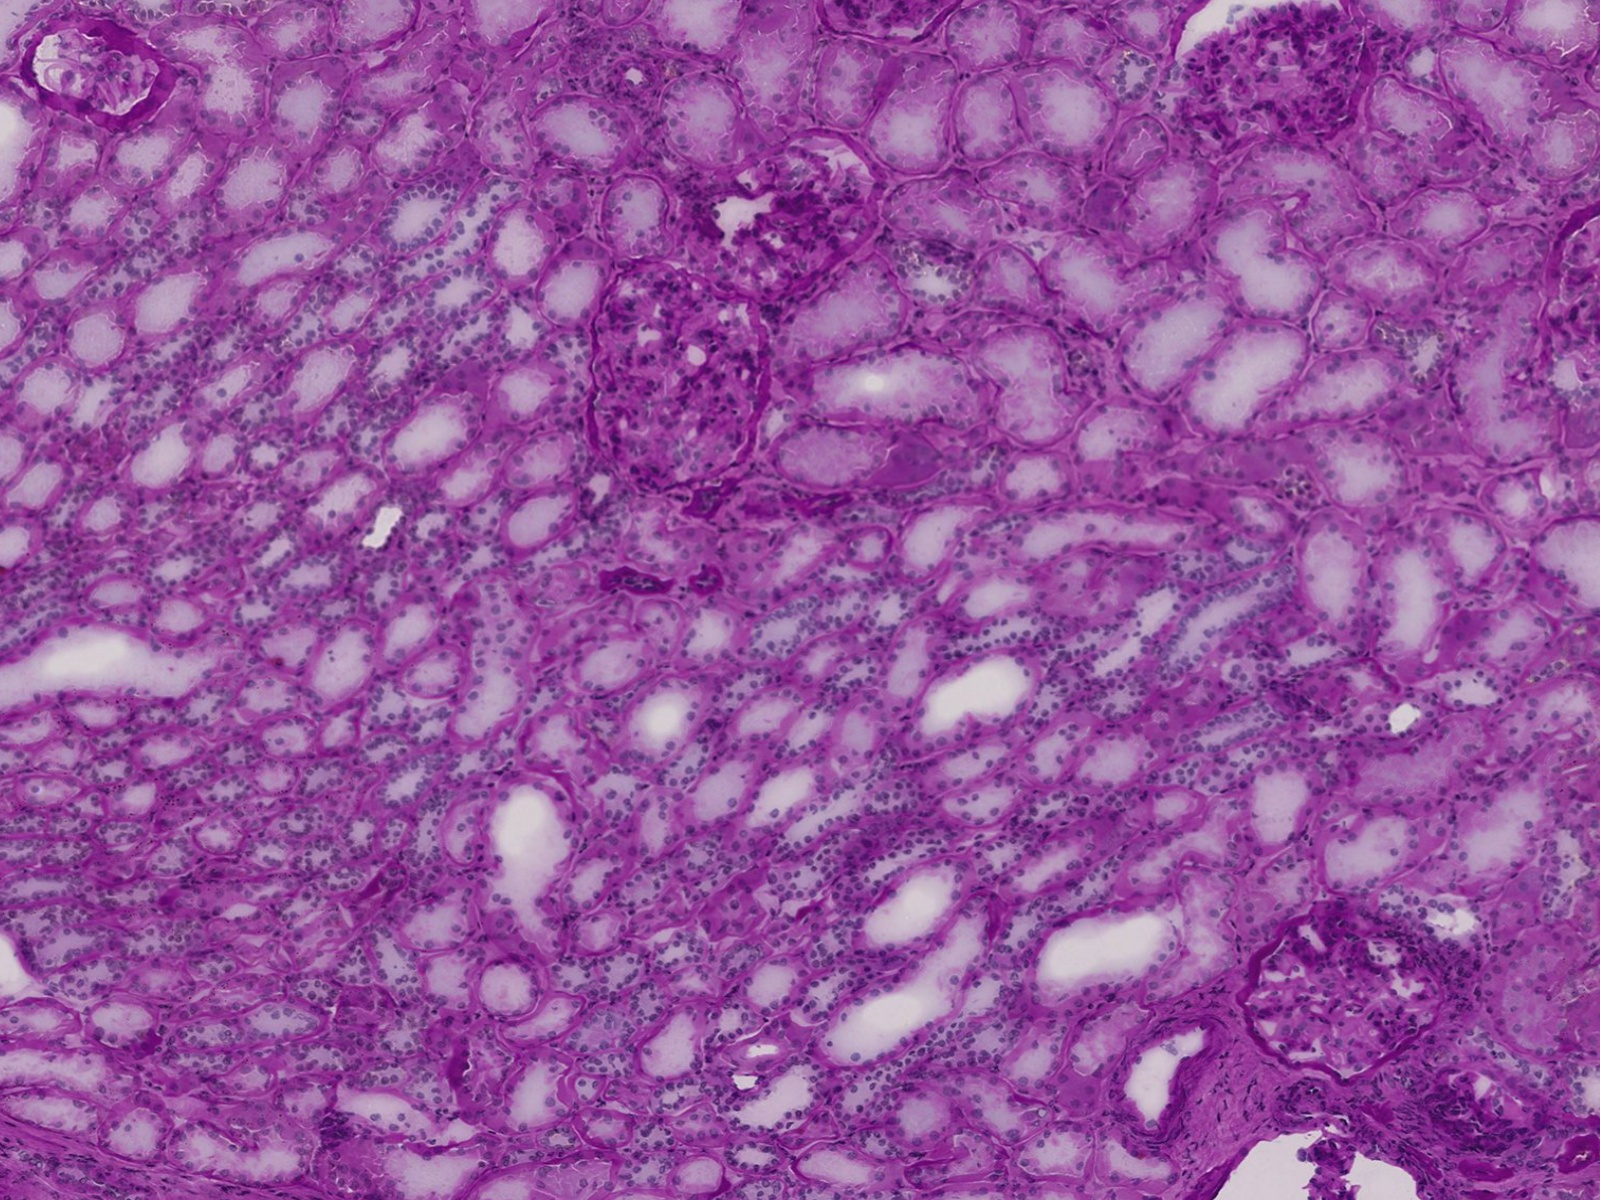Glomeruli: (583, 261, 771, 492), (1242, 903, 1451, 1082), (1168, 5, 1390, 170)
